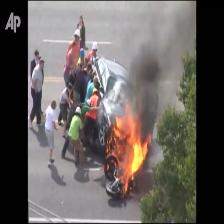fire: (107, 99, 151, 194)
